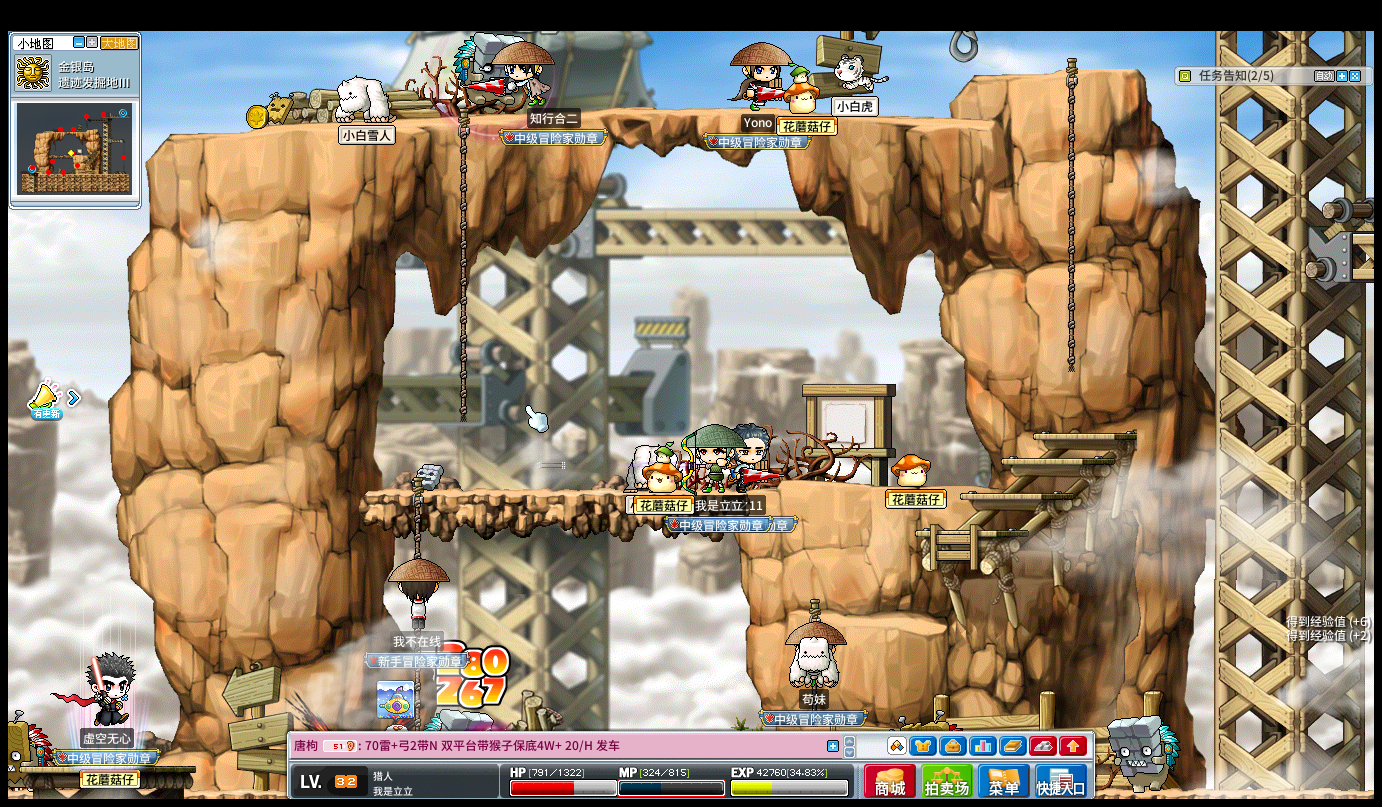floor: (160, 104, 1002, 137), (359, 488, 759, 499), (970, 64, 1146, 77), (840, 613, 948, 634), (1031, 429, 1138, 441), (846, 482, 997, 490), (960, 489, 1072, 499), (914, 528, 1026, 537), (996, 456, 1112, 464), (960, 492, 1075, 500)
monster: (1109, 716, 1180, 791), (452, 30, 501, 117), (2, 715, 49, 774)
rope: (1064, 53, 1079, 374), (457, 106, 468, 421), (409, 479, 423, 558)
